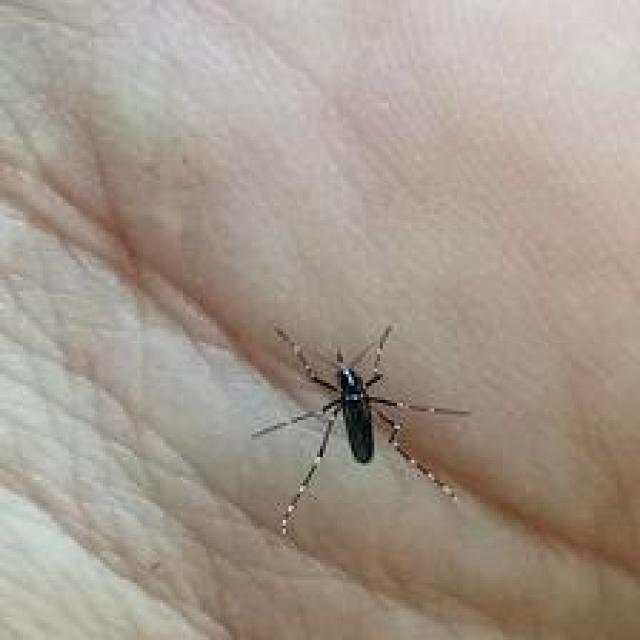Aedes albopictus: (248, 322, 472, 538)
